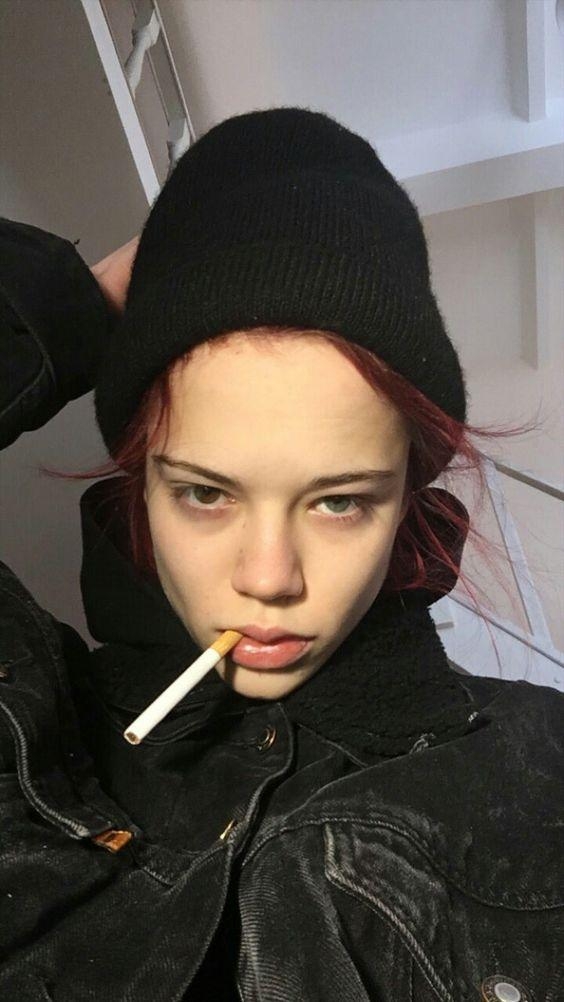cigarette: (123, 629, 244, 746)
